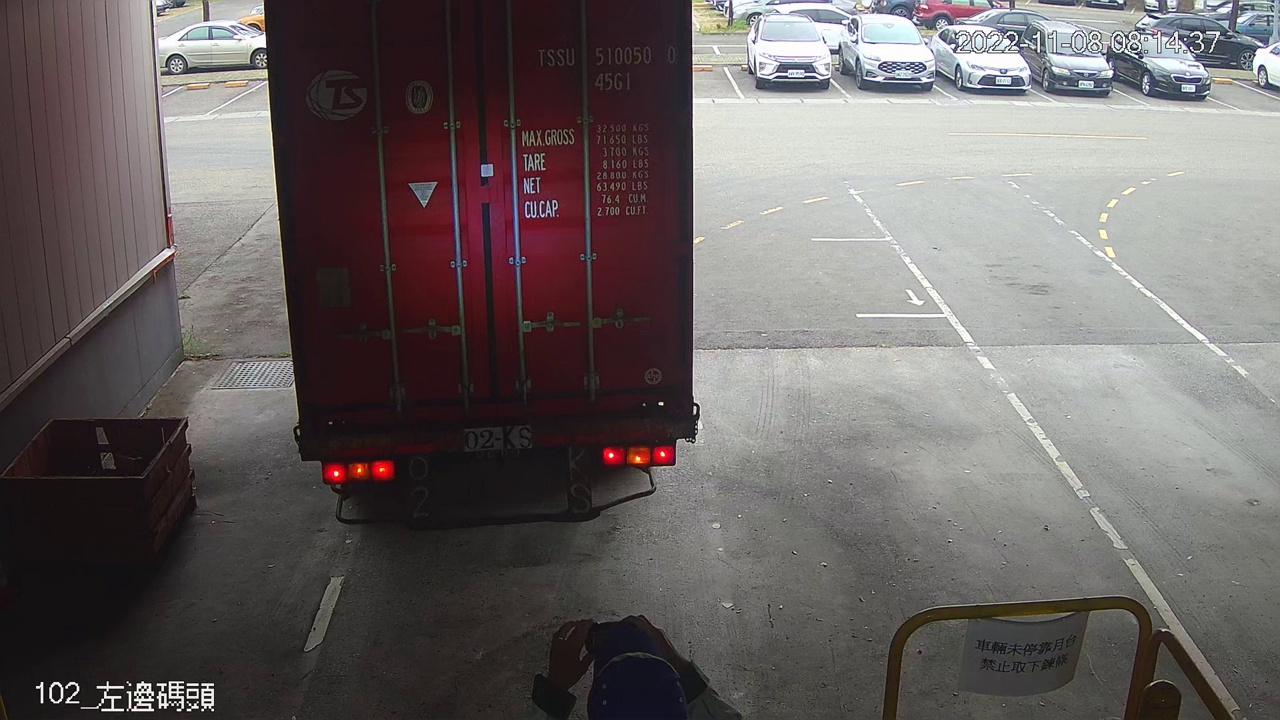container: (528, 37, 681, 97)
